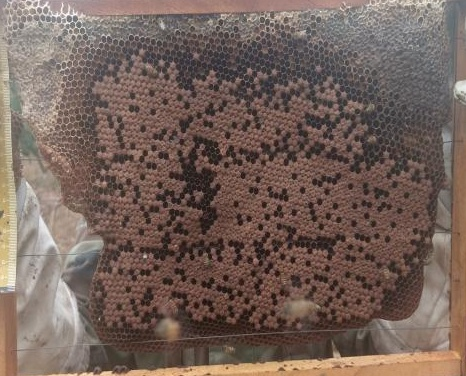cria: (86, 48, 433, 334)
